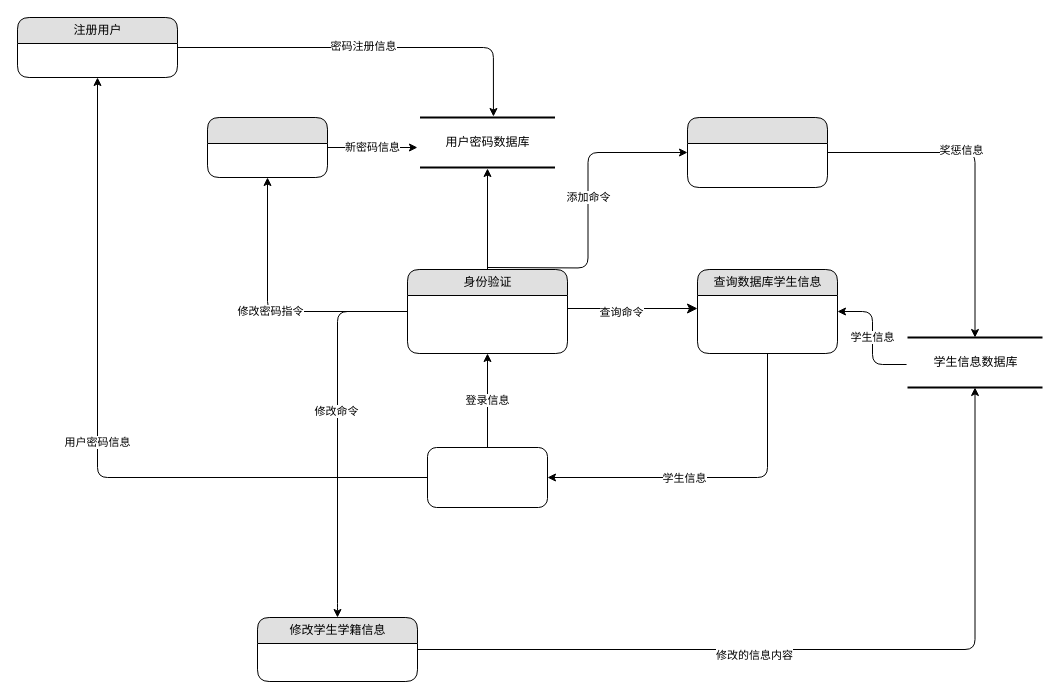
Some shapes in this 1061 by 699 pixel diagram are drawn without their labels. Here are the shapes that lost their labels. From the top down, the centre of each, then its label:
At point 267,147: "修改密码".
At point 757,152: "添加奖惩信息".
At point 487,477: "用户".
